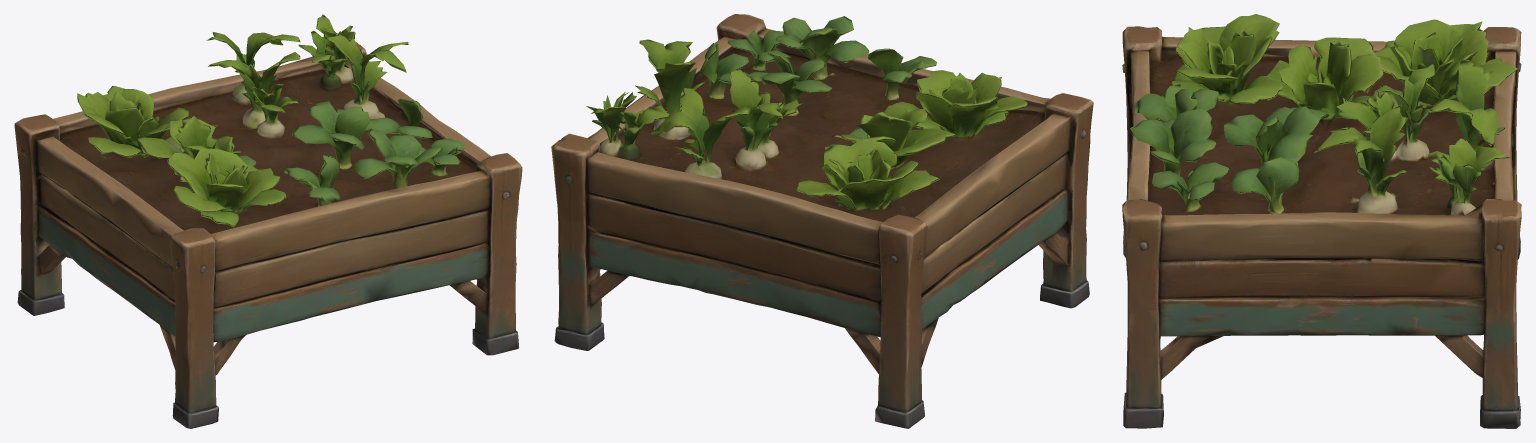
The model's file is huerta.glb.
3 views of the same model, side by side, from view 1: azimuth 30°, elevation 25°; view 2: azimuth 150°, elevation 25°; view 3: azimuth 270°, elevation 25° (orthographic). The views are drawn at different scales.
Parts seen in each view (by area): view 1: tripo_node_3ee2a406-1081-449a-a2ca-a19fba2d376d; view 2: tripo_node_3ee2a406-1081-449a-a2ca-a19fba2d376d; view 3: tripo_node_3ee2a406-1081-449a-a2ca-a19fba2d376d.
Boxes of the visible parts, x1,y1,x2,y2 form: tripo_node_3ee2a406-1081-449a-a2ca-a19fba2d376d: [14, 14, 522, 428]; tripo_node_3ee2a406-1081-449a-a2ca-a19fba2d376d: [551, 14, 1093, 428]; tripo_node_3ee2a406-1081-449a-a2ca-a19fba2d376d: [1122, 14, 1521, 428].
Size of the model in its own units: 1 by 0.6839 by 0.8812.
1 material, 1 textured.
